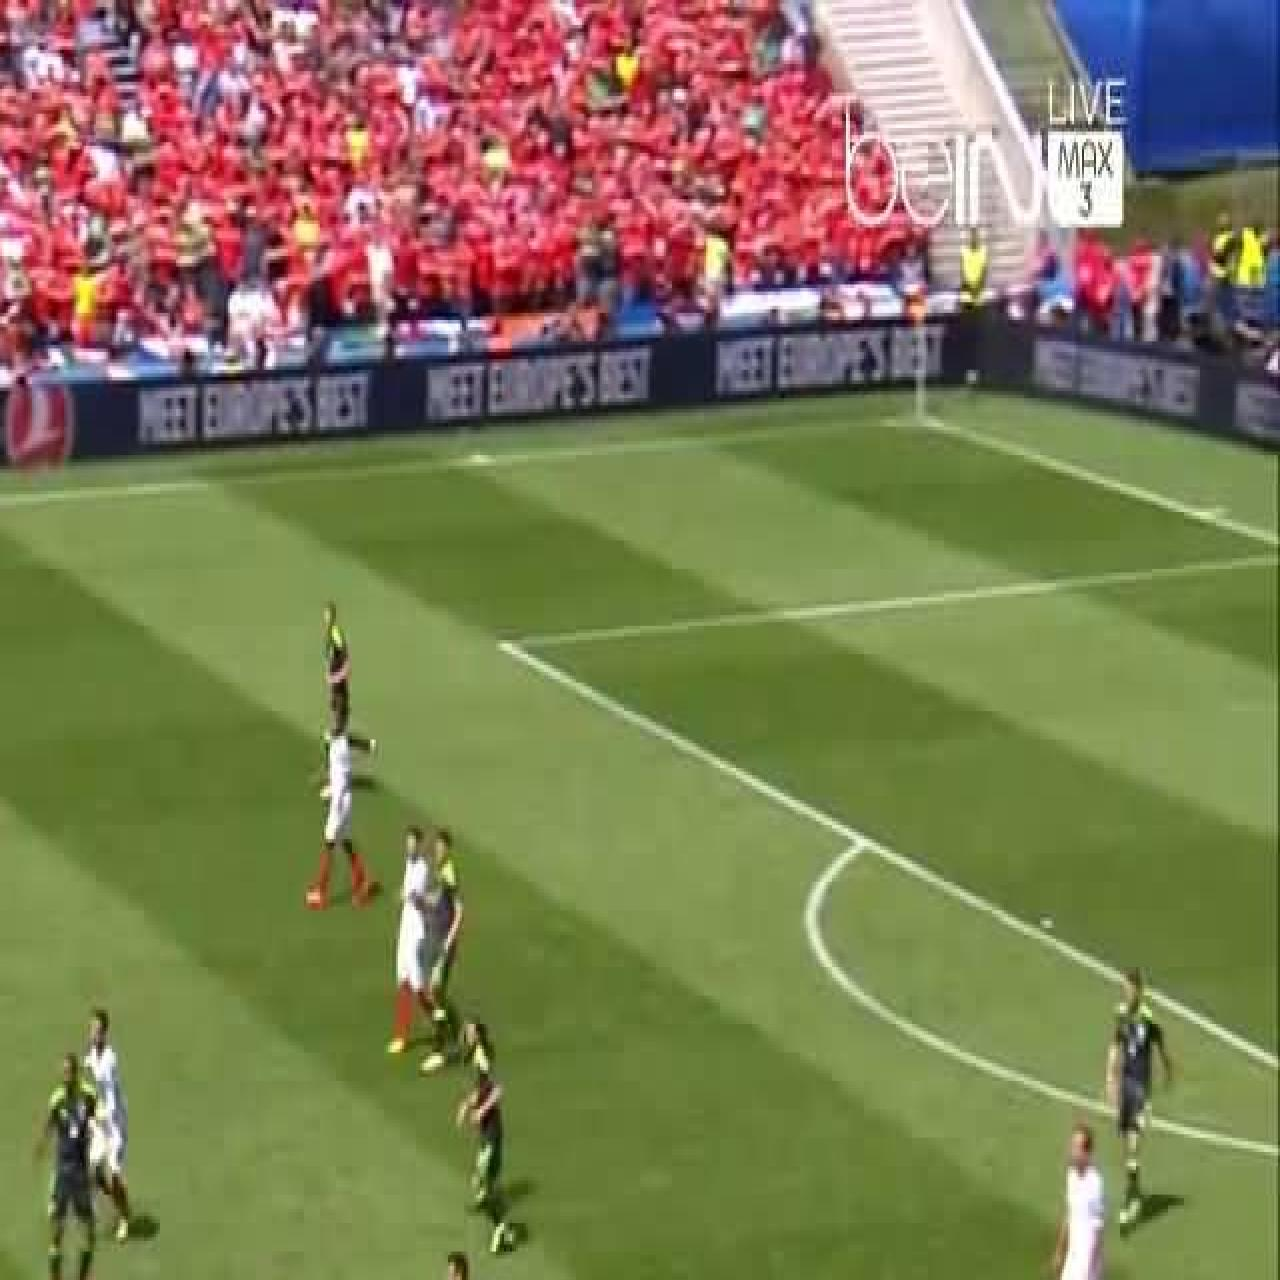football: (1103, 964, 1176, 1232), (34, 1049, 104, 1280), (303, 707, 371, 911), (459, 1019, 516, 1258), (411, 830, 465, 1073), (388, 827, 440, 1059), (81, 1006, 129, 1241), (317, 604, 374, 786), (1048, 1120, 1104, 1280), (440, 1255, 542, 1280)
